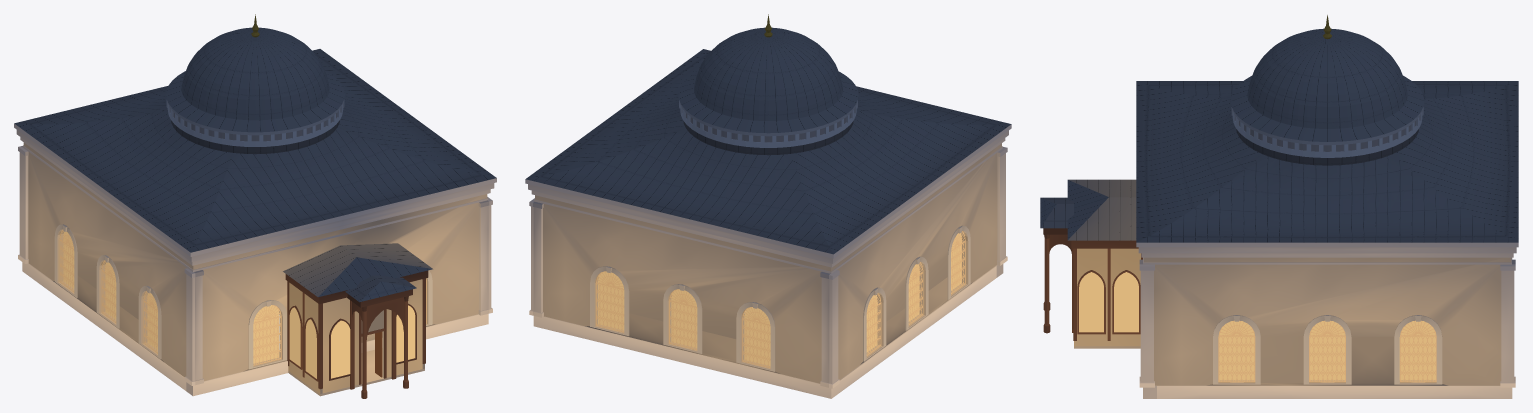
Rendered from orhan-gazi-turbesi_v06_night.glb.
3 views of the same model, side by side, from view 1: azimuth 30°, elevation 25°; view 2: azimuth 150°, elevation 25°; view 3: azimuth 270°, elevation 25° (orthographic). The views are drawn at different scales.
Visible parts, largest first — view 1: Kubbe, Govde, Giris_Holu; view 2: Govde, Kubbe; view 3: Kubbe, Govde, Giris_Holu.
Part boxes in pixels (<box>): Kubbe: <box>14,14,496,252</box>; Govde: <box>14,55,496,396</box>; Giris_Holu: <box>283,243,432,398</box>; Govde: <box>525,124,1011,398</box>; Kubbe: <box>526,14,1010,254</box>; Kubbe: <box>1136,15,1518,242</box>; Govde: <box>1136,242,1518,398</box>; Giris_Holu: <box>1040,179,1142,348</box>.
Size of the model in its own units: 17.5 by 15.5 by 21.9.
Materials: 12 (3 with a texture image).
